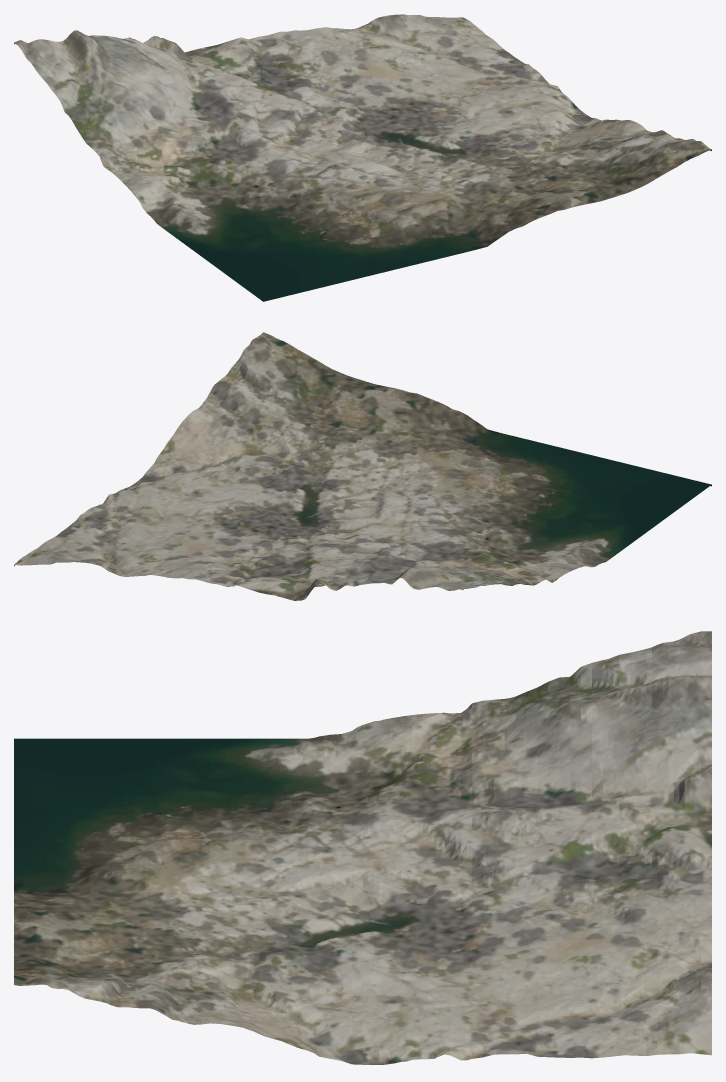
3 views of the same model, one above another, from view 1: azimuth 30°, elevation 25°; view 2: azimuth 150°, elevation 25°; view 3: azimuth 270°, elevation 25° (orthographic). The views are drawn at different scales.
Size of the model in its own units: 250 by 49.91 by 241.
1 material, 1 textured.
